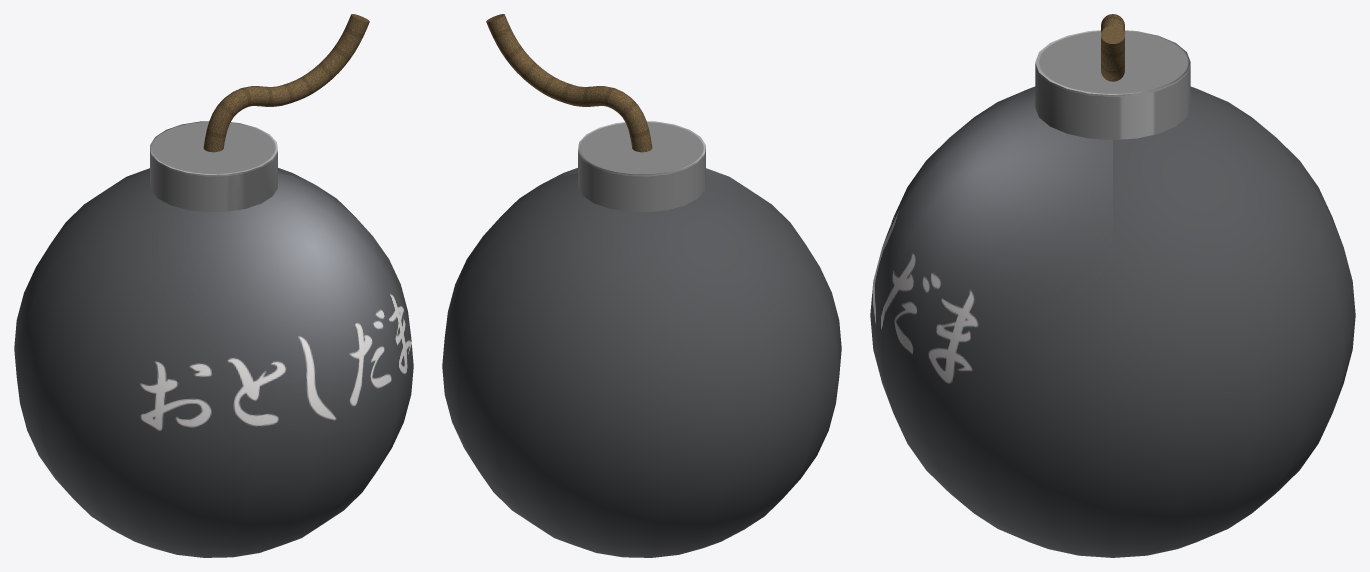
The model's file is Bomb_Data.fbx.
3 views of the same model, side by side, from view 1: azimuth 30°, elevation 25°; view 2: azimuth 150°, elevation 25°; view 3: azimuth 270°, elevation 25° (orthographic). The views are drawn at different scales.
Parts seen in each view (by area): view 1: ball, pinn, rope; view 2: ball, pinn, rope; view 3: ball, pinn, rope.
Boxes of the visible parts, x1=… form: ball: x1=14, y1=168, x2=413, y2=557; pinn: x1=150, y1=121, x2=277, y2=212; rope: x1=203, y1=14, x2=369, y2=152; ball: x1=442, y1=168, x2=841, y2=557; pinn: x1=578, y1=121, x2=705, y2=212; rope: x1=486, y1=14, x2=652, y2=152; ball: x1=870, y1=86, x2=1355, y2=557; pinn: x1=1035, y1=30, x2=1190, y2=139; rope: x1=1101, y1=14, x2=1124, y2=81.
Size of the model in its own units: 2 by 2.69 by 2.
